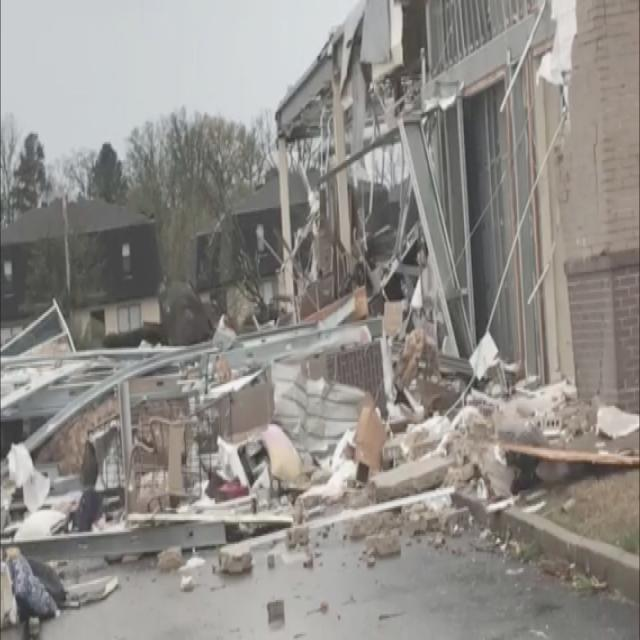Severely_Damaged: (67, 0, 640, 598)
